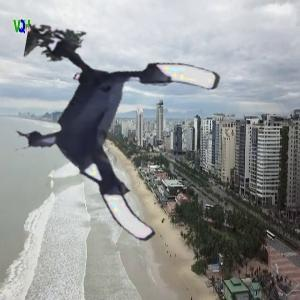drone: (12, 38, 211, 237)
